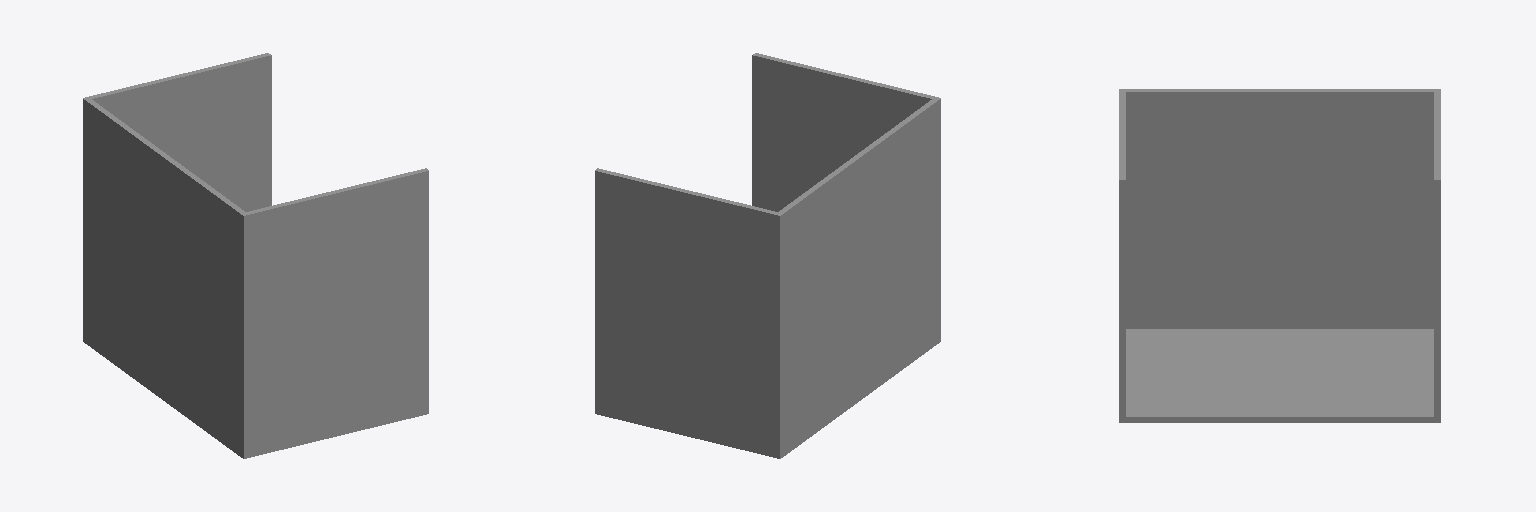
Rendered from Sektion_stove.obj.
3 renders of one model, left to right at view 1: azimuth 30°, elevation 25°; view 2: azimuth 150°, elevation 25°; view 3: azimuth 270°, elevation 25°, orthographic.
Visible parts, largest first — view 1: Vert.020; view 2: Vert.020; view 3: Vert.020.
Part boxes in pixels (x1,y1,x2,y2): Vert.020: (83, 53, 428, 458); Vert.020: (595, 53, 940, 458); Vert.020: (1119, 89, 1440, 422).
Bounding box in the file's own units: 0.6096 × 0.762 × 0.9144.